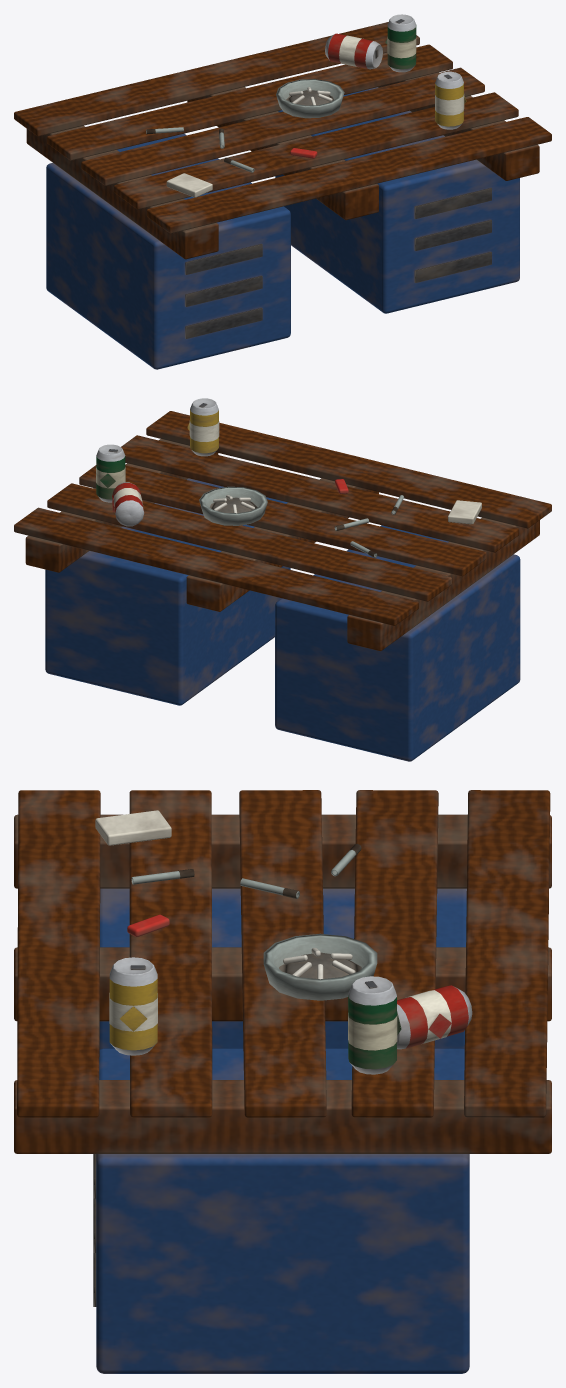
The model's file is pod_stolik.glb.
3 renders of one model, top to bottom at view 1: azimuth 30°, elevation 25°; view 2: azimuth 150°, elevation 25°; view 3: azimuth 270°, elevation 25°, orthographic. The views are drawn at different scales.
Visible parts, largest first — view 1: Stolik, Drobiazgi; view 2: Stolik, Drobiazgi; view 3: Stolik, Drobiazgi.
Part boxes in pixels (x1=…): Stolik: x1=14, y1=22, x2=551, y2=369; Drobiazgi: x1=146, y1=14, x2=466, y2=197; Stolik: x1=14, y1=411, x2=551, y2=761; Drobiazgi: x1=96, y1=398, x2=481, y2=557; Stolik: x1=14, y1=790, x2=551, y2=1373; Drobiazgi: x1=95, y1=810, x2=472, y2=1074.
Bounding box in the file's own units: 1 × 0.532 × 0.72.
Materials: 2 (2 with a texture image).
